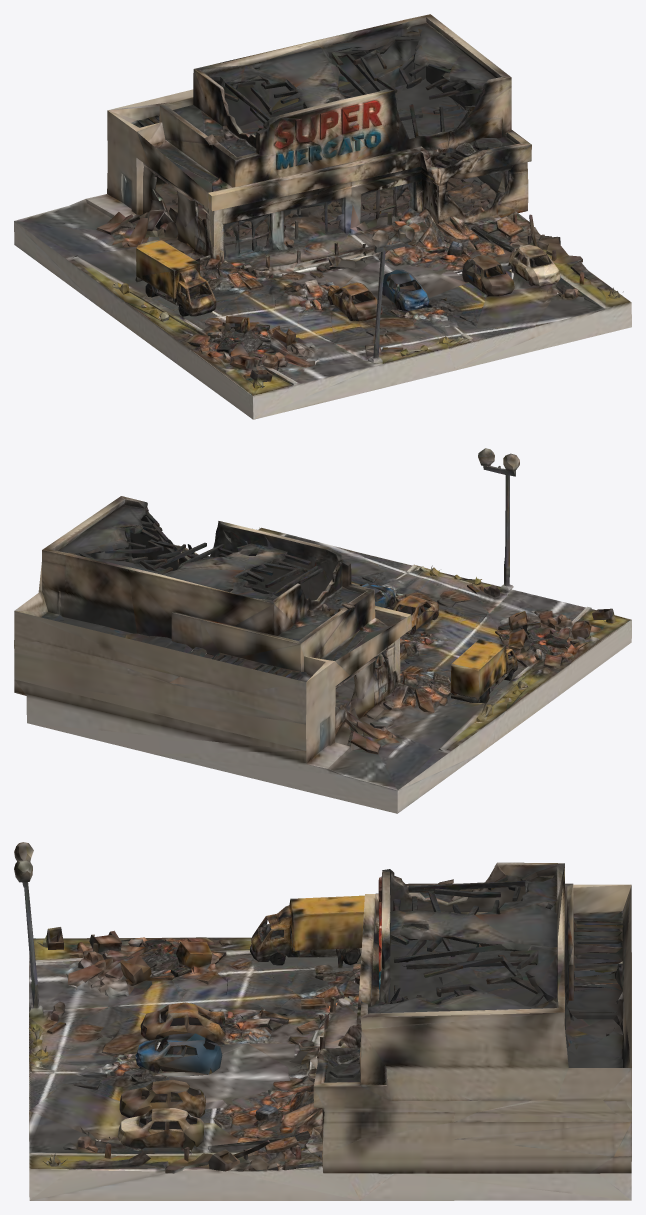
Rendered from commerciale_dev.glb.
3 renders of one model, top to bottom at view 1: azimuth 30°, elevation 25°; view 2: azimuth 150°, elevation 25°; view 3: azimuth 270°, elevation 25°, orthographic. The views are drawn at different scales.
Visible parts, largest first — view 1: output_unwrapped; view 2: output_unwrapped; view 3: output_unwrapped.
Part boxes in pixels (x1,y1,x2,y2): output_unwrapped: (14,14,631,419); output_unwrapped: (14,448,631,813); output_unwrapped: (14,842,631,1200).
Bounding box in the file's own units: 1.74 × 0.679 × 1.88.
Materials: 1 (1 with a texture image).
